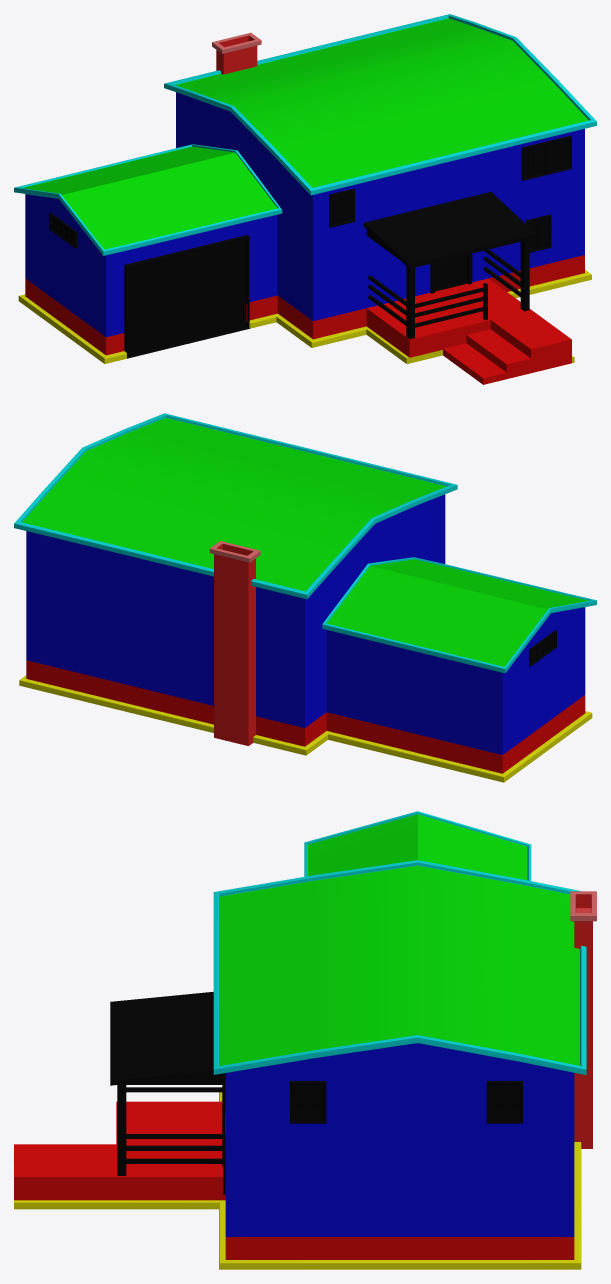
File: SM_Suburb_Building1_High.fbx
3 views of the same model, one above another, from view 1: azimuth 30°, elevation 25°; view 2: azimuth 150°, elevation 25°; view 3: azimuth 270°, elevation 25° (orthographic). The views are drawn at different scales.
Visible parts, largest first — view 1: SM_Suburb_Building1_High; view 2: SM_Suburb_Building1_High; view 3: SM_Suburb_Building1_High.
Part boxes in pixels (x1,y1,x2,y2): SM_Suburb_Building1_High: [14, 14, 596, 384]; SM_Suburb_Building1_High: [14, 413, 596, 782]; SM_Suburb_Building1_High: [14, 811, 596, 1269].
Bounding box in the file's own units: 12.61 × 10.95 × 4.87.
